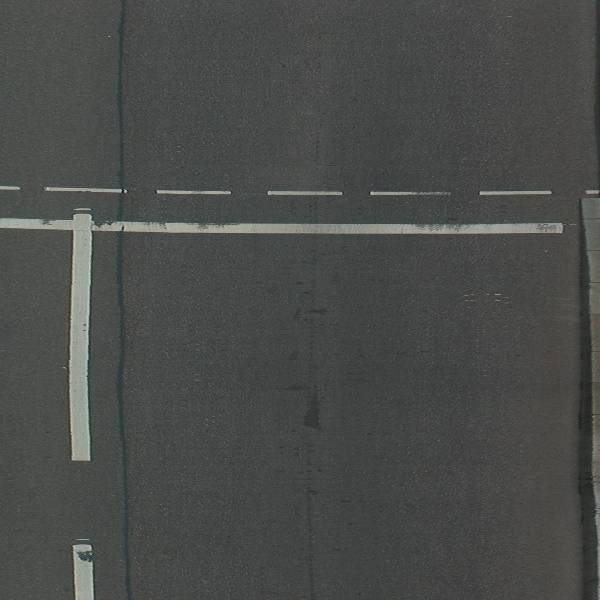road_damage: (111, 235, 145, 600), (277, 370, 358, 450)
